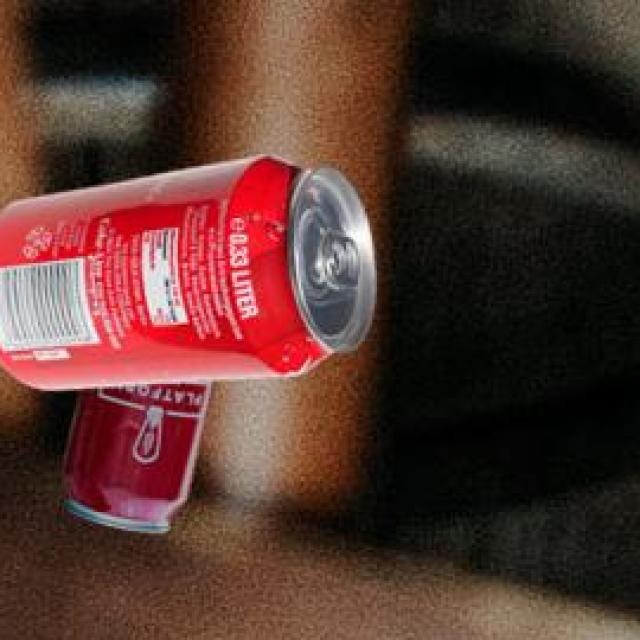logam: (0, 160, 378, 392), (68, 383, 219, 535)
